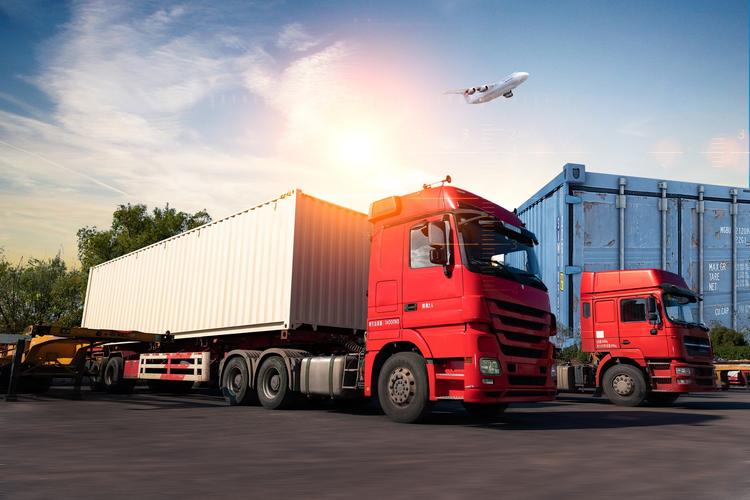卡车: (65, 175, 556, 420), (573, 264, 721, 418)
